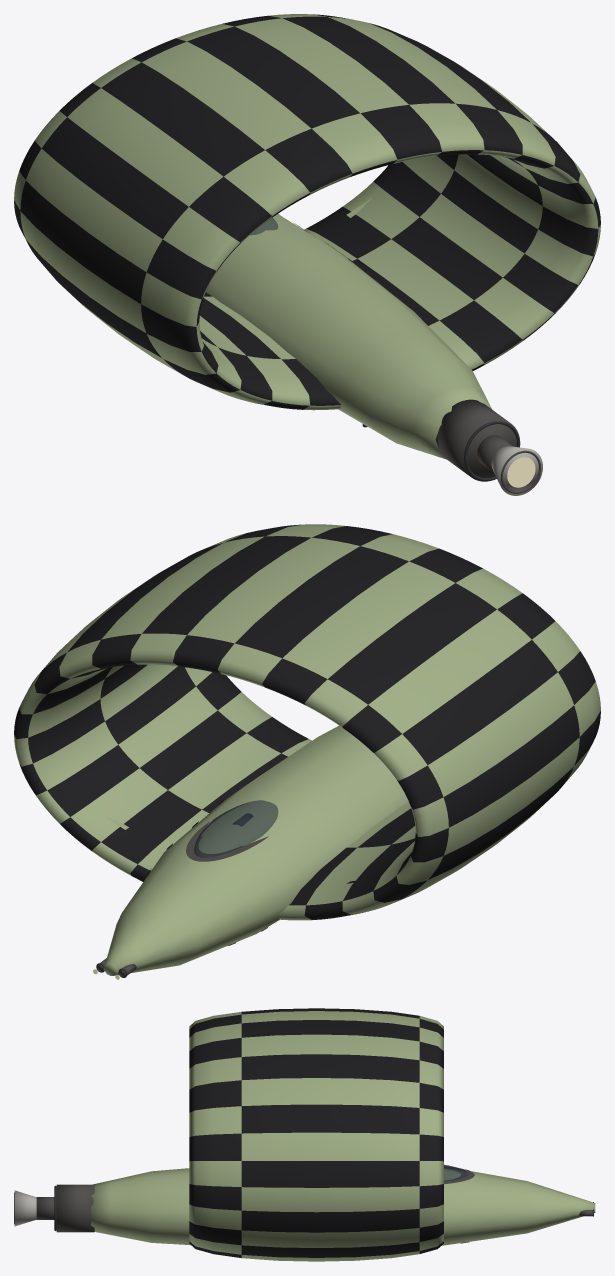
File: Ship_Hooper_900396.glb
3 views of the same model, one above another, from view 1: azimuth 30°, elevation 25°; view 2: azimuth 150°, elevation 25°; view 3: azimuth 270°, elevation 25° (orthographic). The views are drawn at different scales.
Parts seen in each view (by area): view 1: Hoop_MainStructuralRing_YAxisHole_ElongatedY_LowerMidpointAt, Fuselage_MainCenteredHull_CenterOfMassAtOrigin, EngineBlock_AftHullIntegratedMountPlate, EngineBell_Center_AftHullBurnishedNozzle, EngineEmitter; view 2: Hoop_MainStructuralRing_YAxisHole_ElongatedY_LowerMidpointAt, Fuselage_MainCenteredHull_CenterOfMassAtOrigin, CanopyGlass_LowForwardPodDome, CanopyFrame_LowInsetOvalRim; view 3: Hoop_MainStructuralRing_YAxisHole_ElongatedY_LowerMidpointAt, Fuselage_MainCenteredHull_CenterOfMassAtOrigin, EngineBlock_AftHullIntegratedMountPlate, EngineBell_Center_AftHullBurnishedNozzle, EngineThroat_Center_AftHullDarkSocket.
Boxes of the visible parts, x1,y1,x2,y2 form: Hoop_MainStructuralRing_YAxisHole_ElongatedY_LowerMidpointAt: (14,14,600,410); Fuselage_MainCenteredHull_CenterOfMassAtOrigin: (206,214,492,459); EngineBlock_AftHullIntegratedMountPlate: (438,399,520,481); EngineBell_Center_AftHullBurnishedNozzle: (491,446,542,495); EngineEmitter: (507,457,535,487); Hoop_MainStructuralRing_YAxisHole_ElongatedY_LowerMidpointAt: (14,524,600,920); Fuselage_MainCenteredHull_CenterOfMassAtOrigin: (104,725,408,975); CanopyGlass_LowForwardPodDome: (194,800,278,857); CanopyFrame_LowInsetOvalRim: (186,822,268,861); Hoop_MainStructuralRing_YAxisHole_ElongatedY_LowerMidpointAt: (189,1008,443,1261); Fuselage_MainCenteredHull_CenterOfMassAtOrigin: (91,1168,595,1245); EngineBlock_AftHullIntegratedMountPlate: (56,1184,94,1232); EngineBell_Center_AftHullBurnishedNozzle: (14,1190,36,1226); EngineThroat_Center_AftHullDarkSocket: (36,1197,54,1219).
Bounding box in the file's own units: 4.11 × 2.6 × 6.61.
